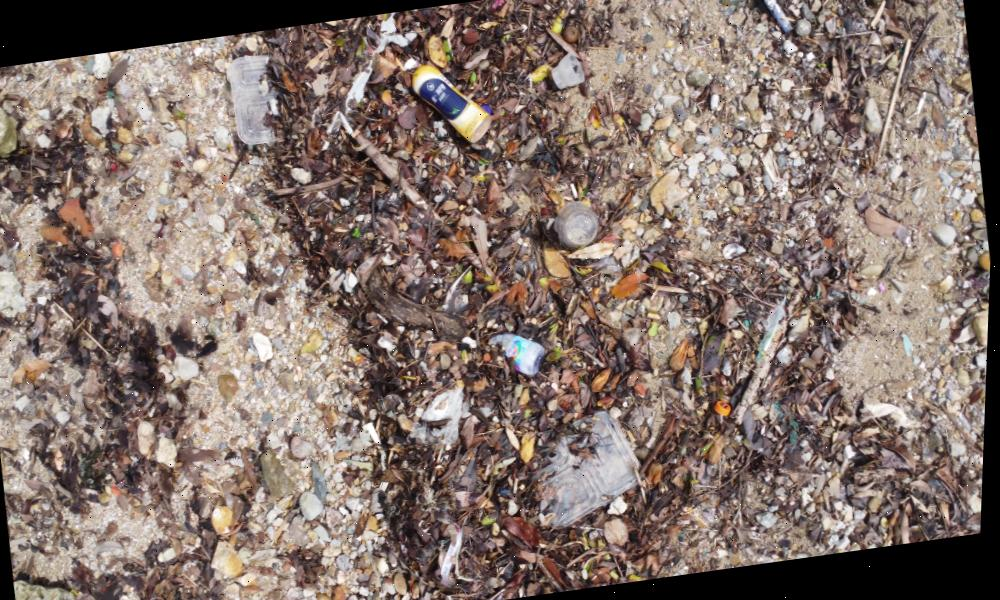plastic bottle: (401, 35, 500, 157), (490, 322, 549, 384)
plastic container: (533, 405, 660, 534), (221, 28, 304, 144)
